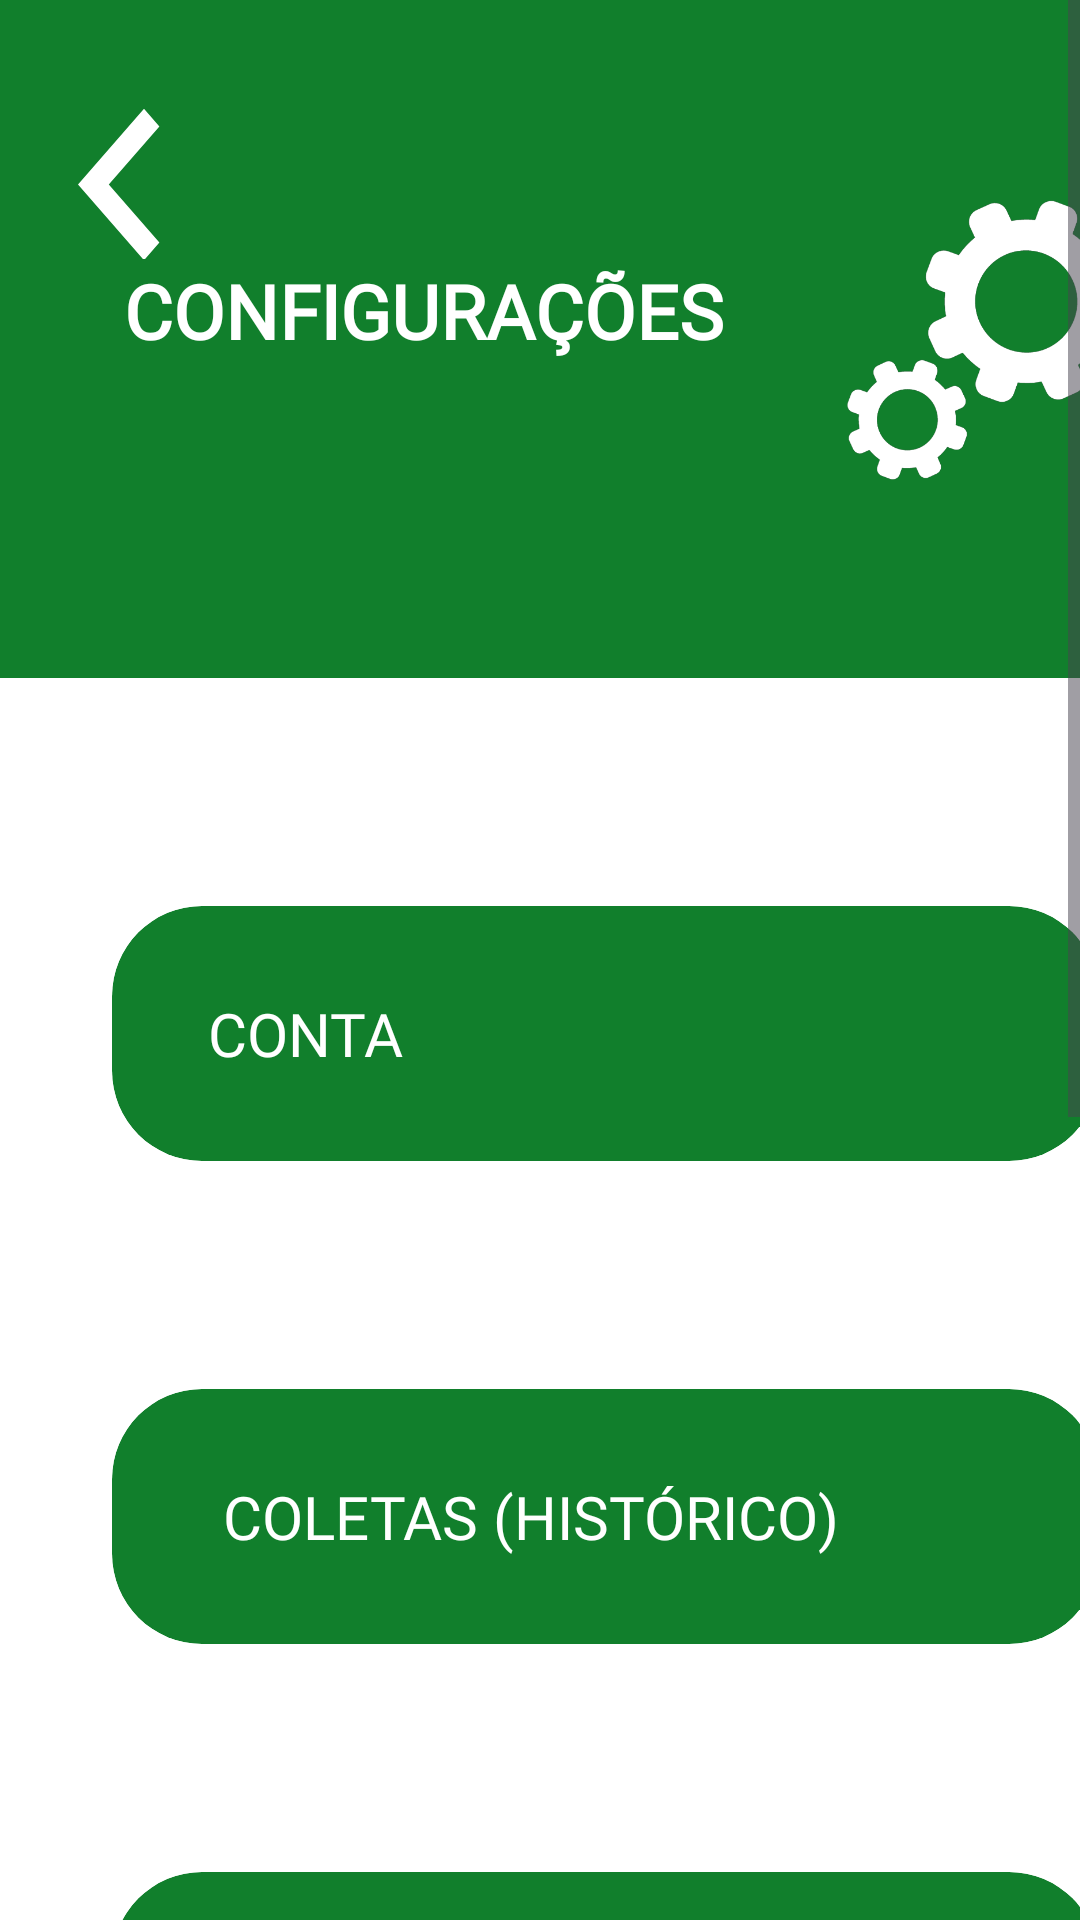

Icon click points for this 1080 × 1920 phone screenshot, format point (x, y):
voltar para a home: point (119, 184)
